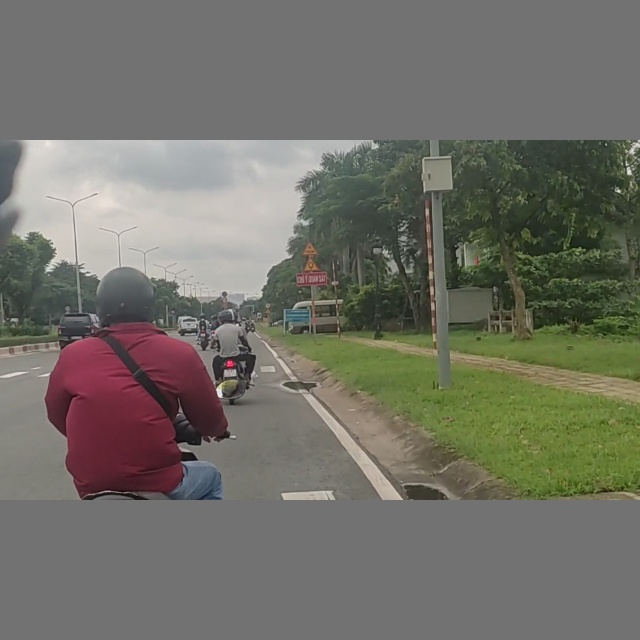P.130: (221, 291, 227, 297)
W.245a: (301, 242, 319, 255)
W.246a: (303, 258, 322, 272)
